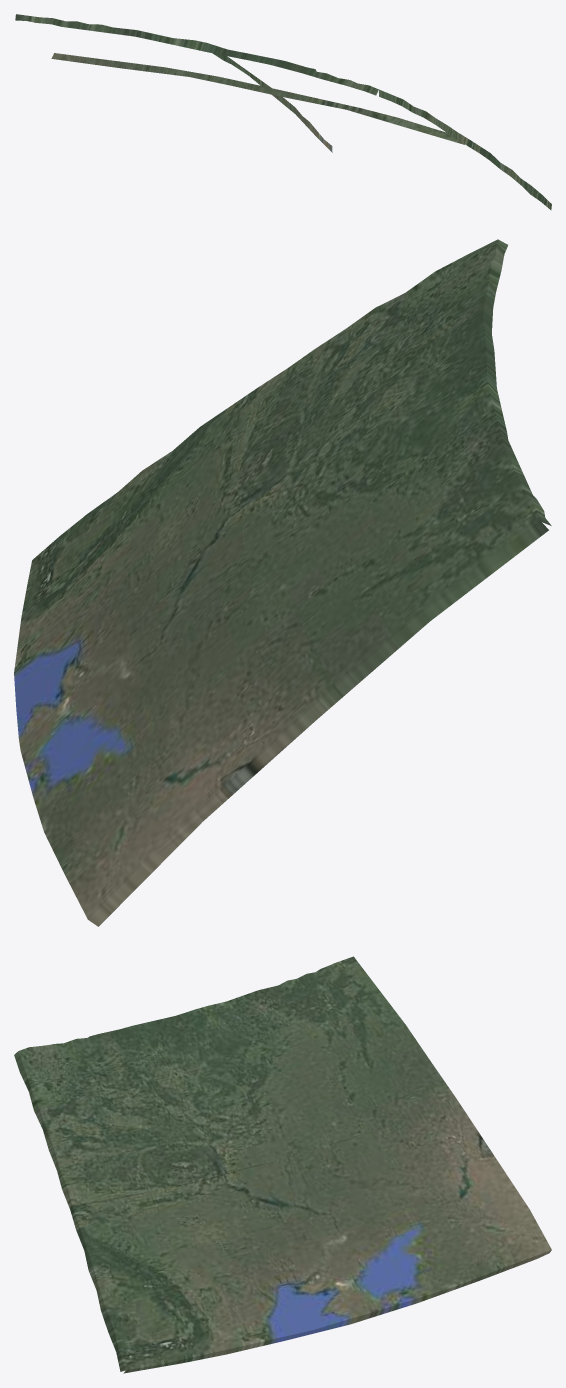
3 views of the same model, one above another, from view 1: azimuth 30°, elevation 25°; view 2: azimuth 150°, elevation 25°; view 3: azimuth 270°, elevation 25° (orthographic). The views are drawn at different scales.
Size of the model in its own units: 1686004 by 827501 by 1854194.
Materials: 1 (1 with a texture image).
